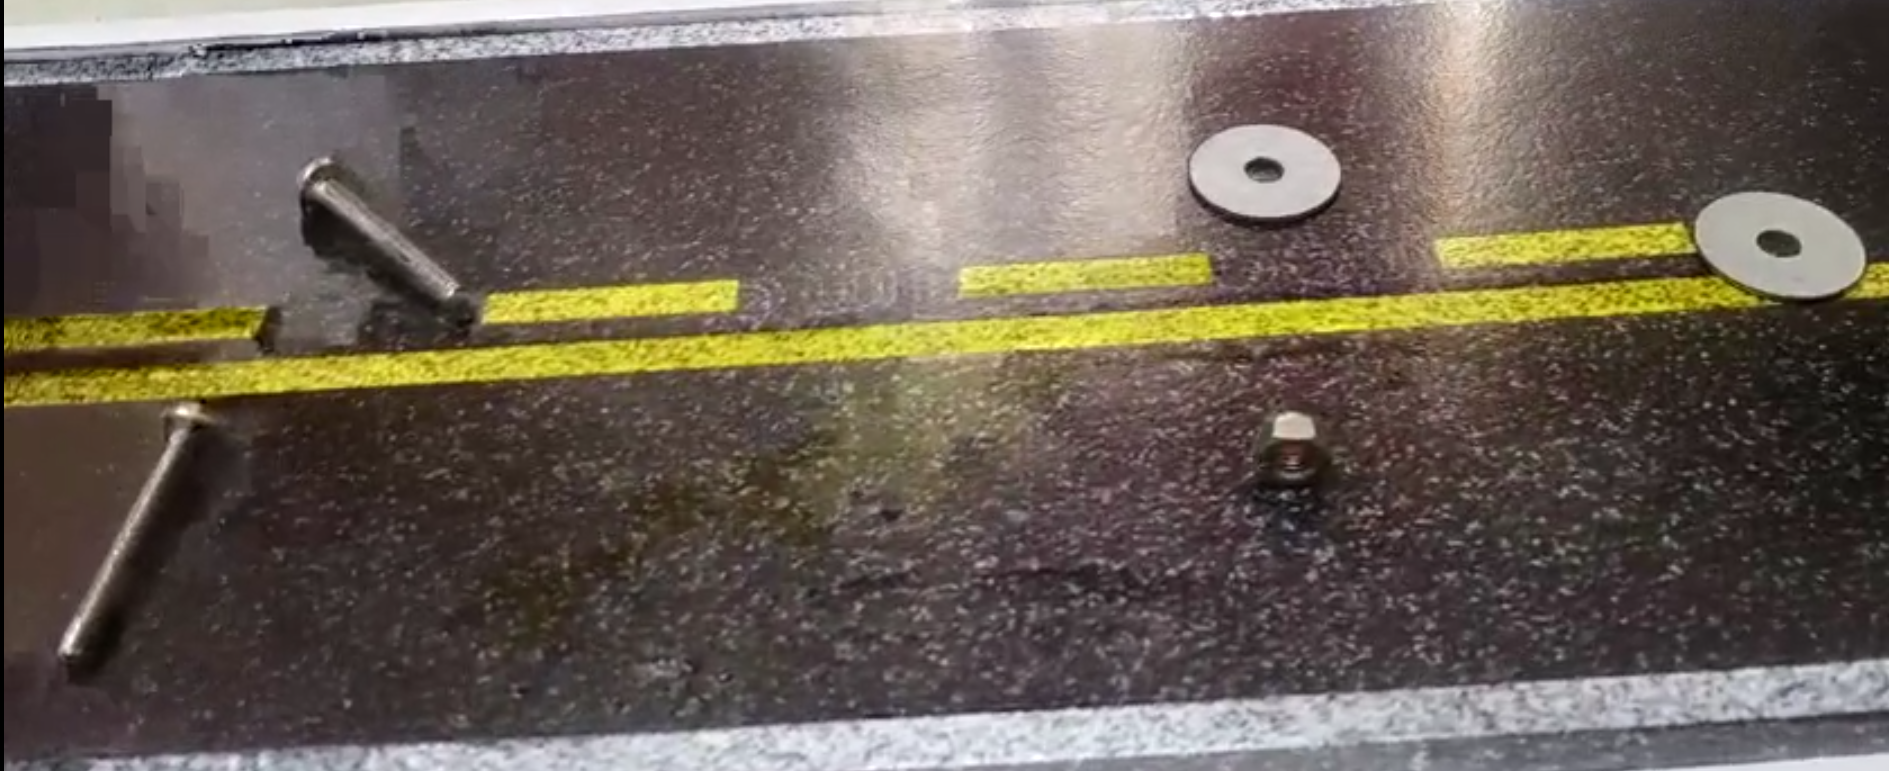metal: (43, 401, 220, 669), (275, 149, 464, 316), (1689, 187, 1871, 314), (1181, 124, 1344, 224), (1249, 404, 1337, 489)
